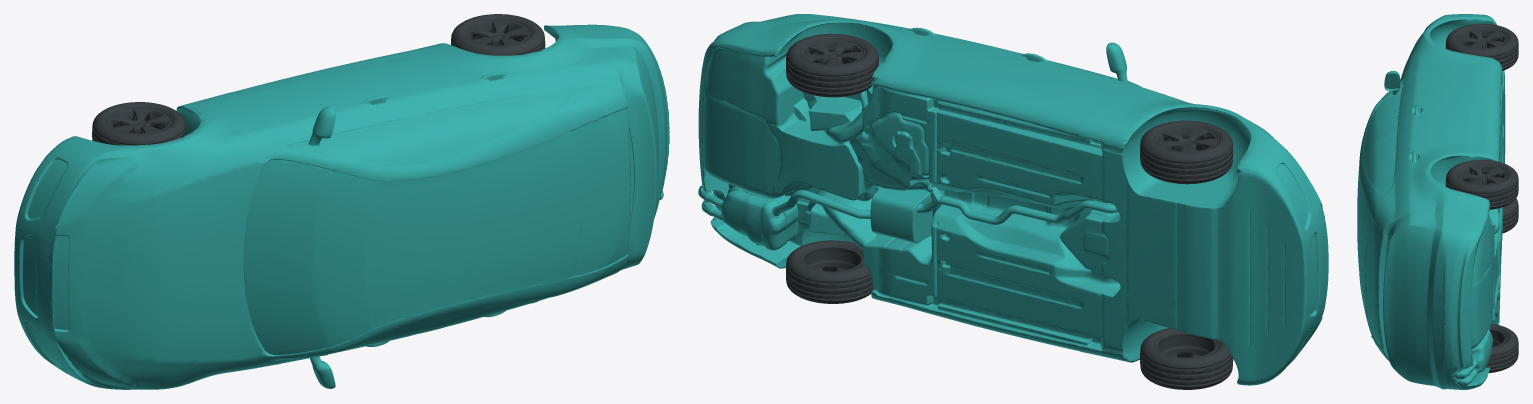
The model's file is drivaer_reference.glb.
3 renders of one model, left to right at view 1: azimuth 30°, elevation 25°; view 2: azimuth 150°, elevation 25°; view 3: azimuth 270°, elevation 25°, orthographic. The views are drawn at different scales.
Parts seen in each view (by area): view 1: Body, Wheel_FL, Wheel_RL; view 2: Body, Wheel_FL, Wheel_RL, Wheel_RR, Wheel_FR; view 3: Body, Wheel_RL, Wheel_FL, Wheel_RR, Wheel_FR.
Boxes of the visible parts, bbox=[...] form: Body: bbox=[14, 24, 669, 389]; Wheel_FL: bbox=[92, 102, 186, 145]; Wheel_RL: bbox=[451, 14, 545, 55]; Body: bbox=[698, 14, 1328, 385]; Wheel_FL: bbox=[1140, 120, 1233, 184]; Wheel_RL: bbox=[786, 33, 878, 97]; Wheel_RR: bbox=[786, 240, 872, 303]; Wheel_FR: bbox=[1140, 328, 1233, 389]; Body: bbox=[1357, 14, 1505, 389]; Wheel_RL: bbox=[1445, 159, 1518, 209]; Wheel_FL: bbox=[1445, 23, 1518, 70]; Wheel_RR: bbox=[1486, 323, 1518, 372]; Wheel_FR: bbox=[1502, 198, 1518, 233].
Bounding box in the file's own units: 4.81 × 2.04 × 1.37.
